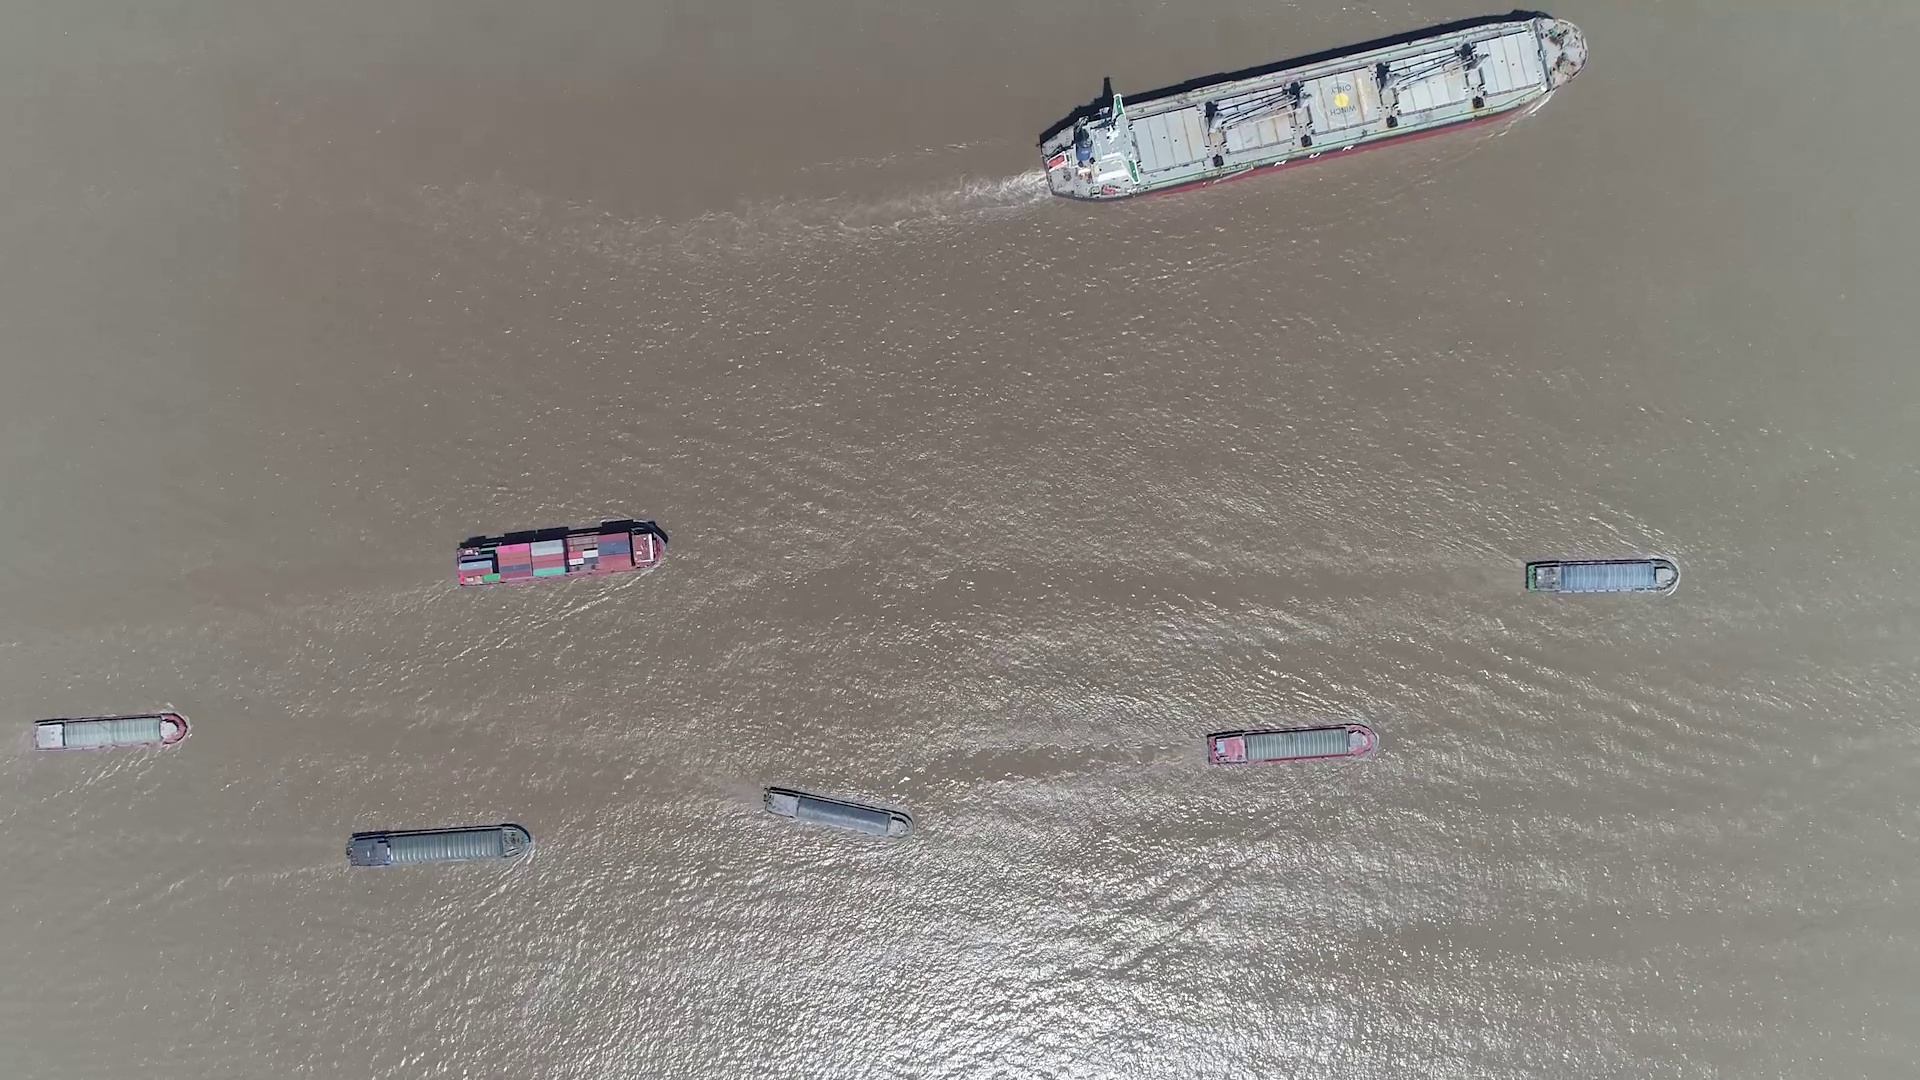ship: (1038, 17, 1582, 200), (455, 524, 667, 585), (345, 823, 531, 866), (761, 787, 910, 841), (1205, 724, 1378, 766), (30, 713, 189, 752), (1524, 556, 1677, 593)
